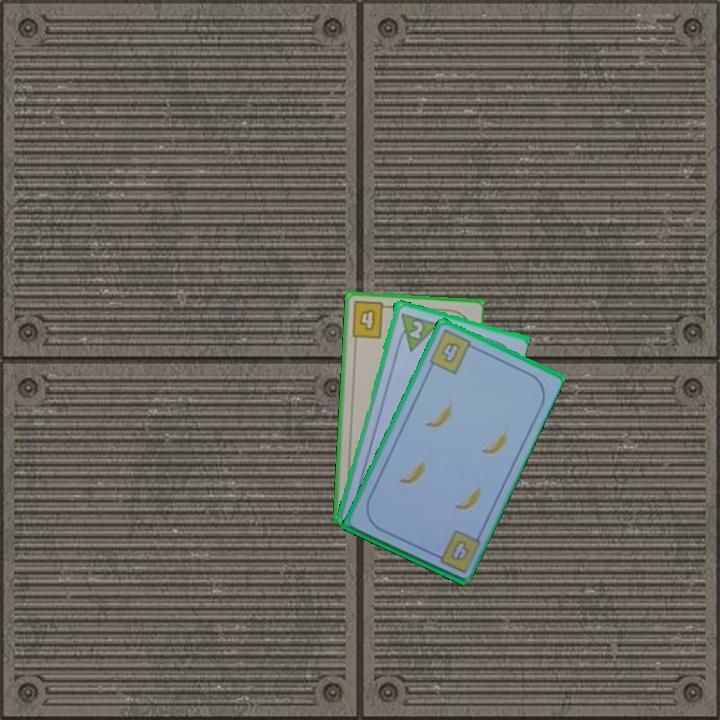2p: (406, 317, 426, 341)
4b: (426, 326, 479, 377), (348, 298, 393, 341), (446, 536, 472, 563)
